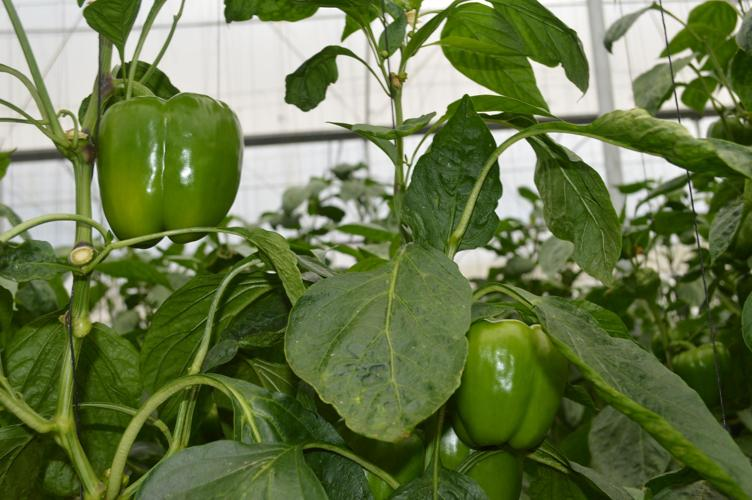BellPepper: (94, 93, 241, 240), (450, 321, 566, 454), (670, 345, 731, 408)
